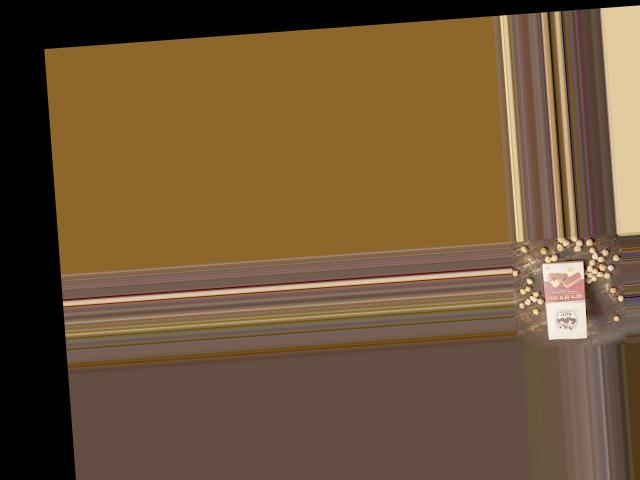chocolate: (539, 258, 592, 342)
